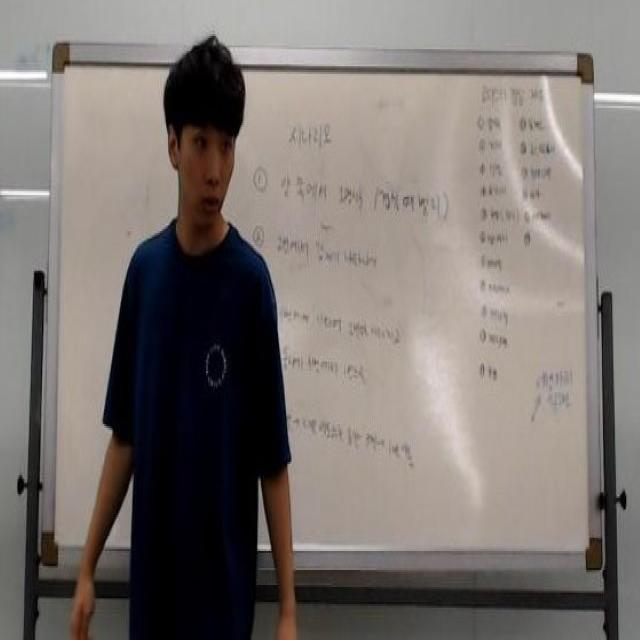Instructor: (127, 32, 273, 640)
White-board: (51, 52, 596, 564)
